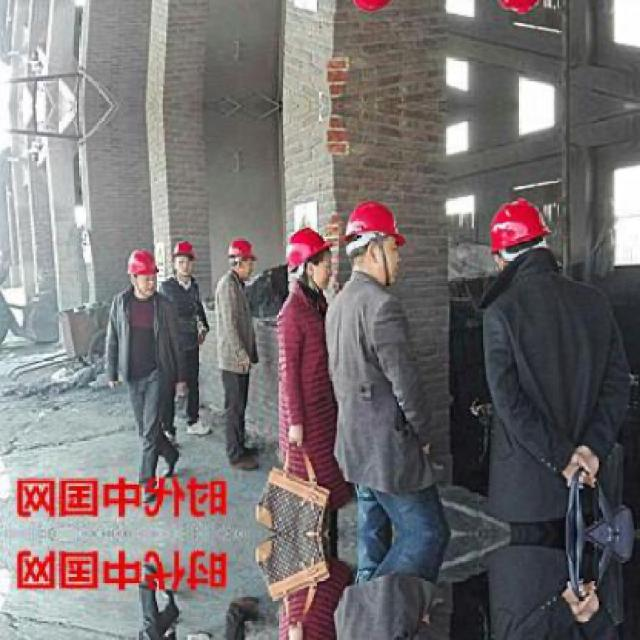helmet: (343, 192, 409, 282), (491, 190, 557, 268), (289, 222, 326, 286), (128, 246, 158, 294), (491, 0, 558, 20), (344, 0, 411, 18), (174, 232, 198, 278), (229, 234, 257, 271)
